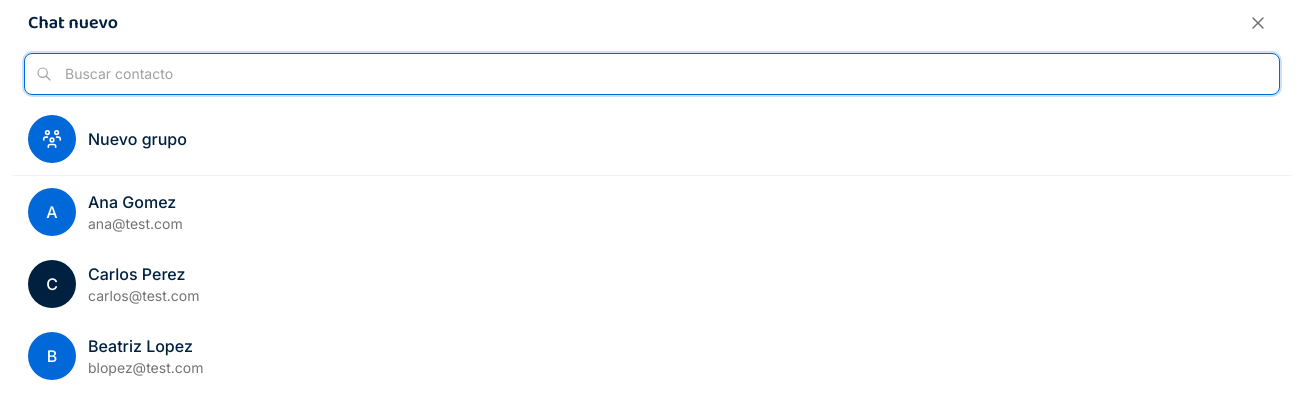
Test: NewChatModal › permite filtrar contactos por el buscador
The image size is (1304, 397).
Type "Carlos" into the field with placeholder "Buscar contacto" at {"x": 652, "y": 74}, box [24,53,1280,95]
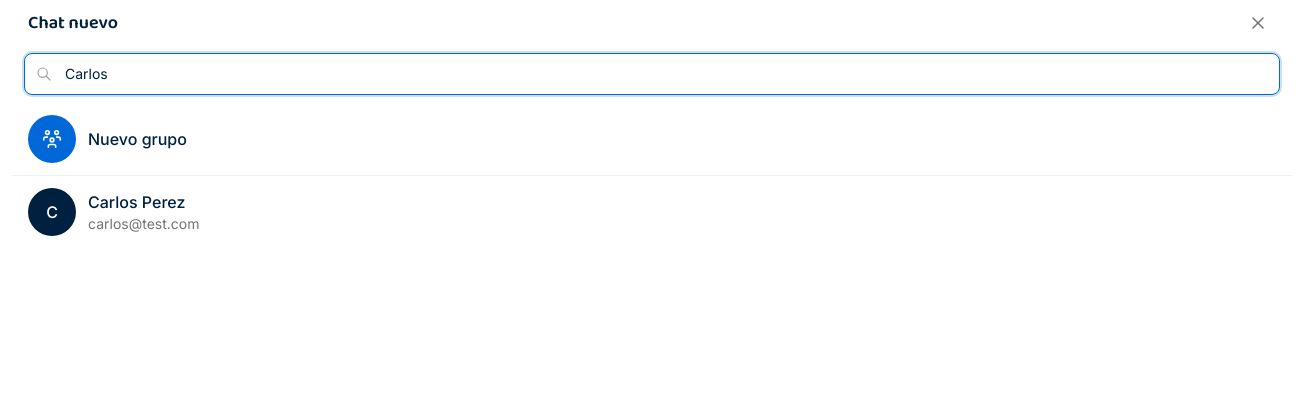
Expected: the text "Carlos Perez" is shown, [88,192,185,212]
Result: the button "Ana Gomez" is gone
